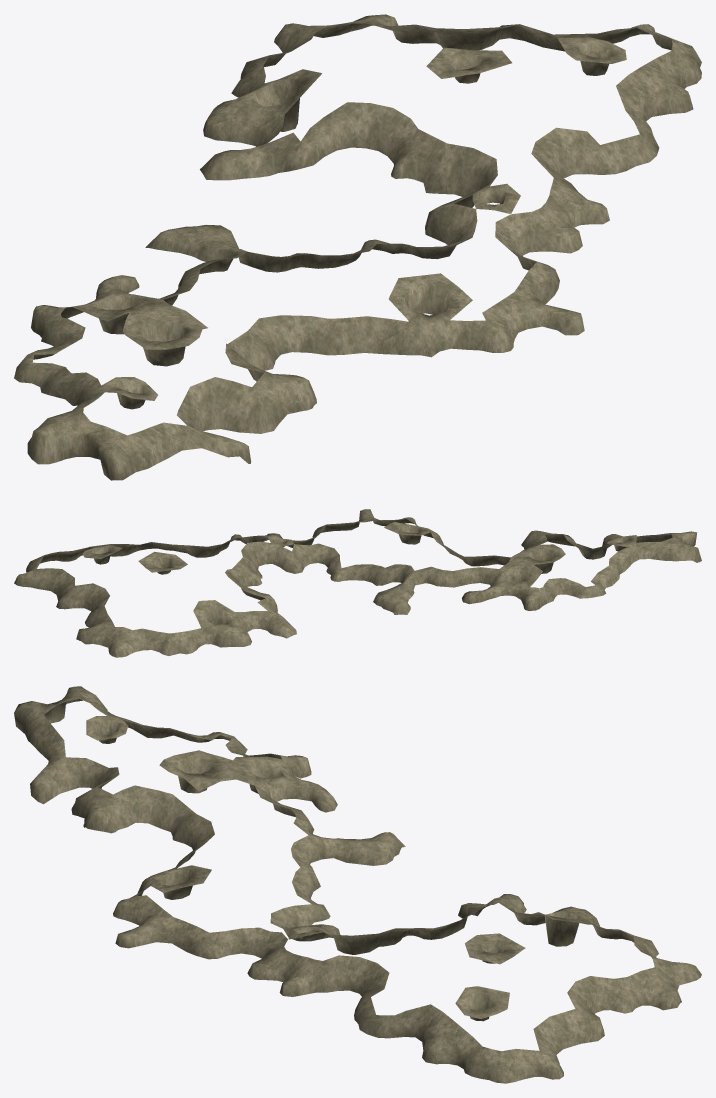
The model's file is EKH_CAVERNS_PS_CA_OBJECT17.fbx.
The picture shows the model from 3 angles, top to bottom: view 1: azimuth 30°, elevation 25°; view 2: azimuth 150°, elevation 25°; view 3: azimuth 270°, elevation 25°; orthographic projection. The views are drawn at different scales.
Visible parts, largest first — view 1: EKH_CAVERNS_PS_CA_OBJECT17; view 2: EKH_CAVERNS_PS_CA_OBJECT17; view 3: EKH_CAVERNS_PS_CA_OBJECT17.
Part boxes in pixels (box(x1,y1,x2,y2)): EKH_CAVERNS_PS_CA_OBJECT17: box(14, 14, 701, 480); EKH_CAVERNS_PS_CA_OBJECT17: box(14, 509, 701, 657); EKH_CAVERNS_PS_CA_OBJECT17: box(14, 686, 701, 1083).
Bounding box in the file's own units: 994758 × 70028 × 815462.
Materials: 1 (1 with a texture image).
